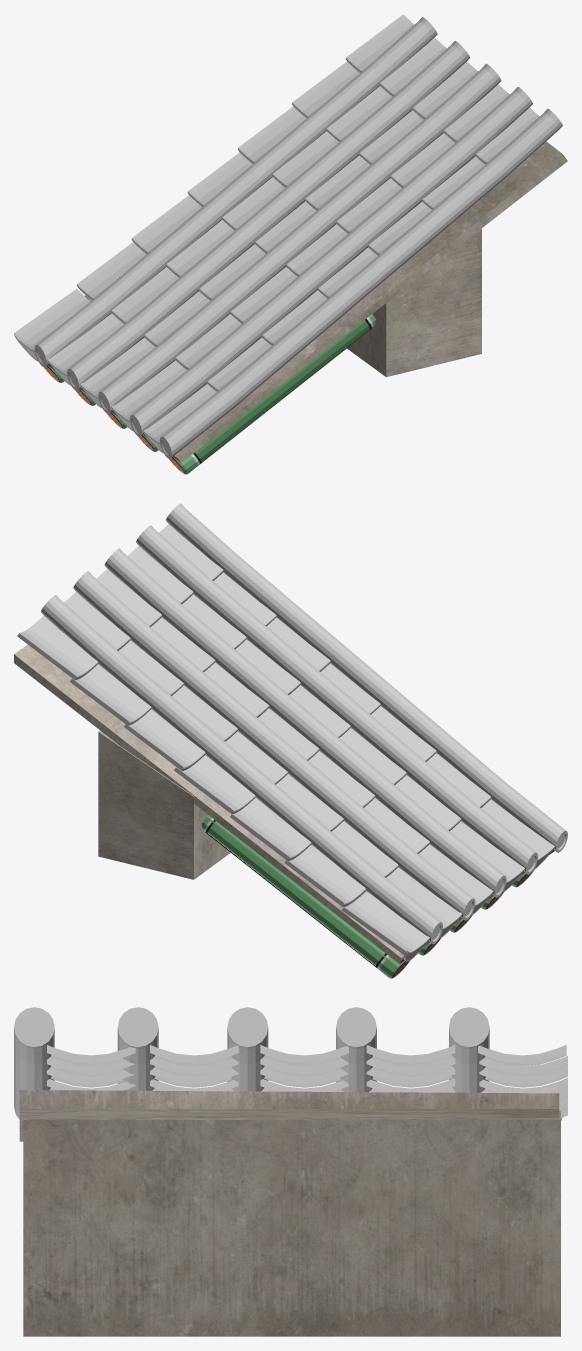
File: SM_Roof_29.fbx
3 views of the same model, one above another, from view 1: azimuth 30°, elevation 25°; view 2: azimuth 150°, elevation 25°; view 3: azimuth 270°, elevation 25° (orthographic). The views are drawn at different scales.
Parts seen in each view (by area): view 1: SM_Roof_29; view 2: SM_Roof_29; view 3: SM_Roof_29.
Part boxes in pixels (<box>): SM_Roof_29: <box>14,14,567,474</box>; SM_Roof_29: <box>14,503,567,978</box>; SM_Roof_29: <box>14,1007,567,1336</box>.
Bounding box in the file's own units: 399 × 276 × 273.
